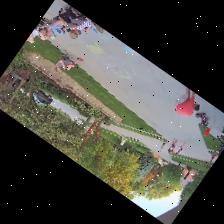person: (175, 88, 200, 115), (41, 17, 71, 36), (70, 21, 97, 38), (55, 57, 83, 70), (27, 29, 48, 42), (176, 143, 185, 154), (211, 147, 218, 161), (161, 140, 167, 150), (97, 25, 104, 32)
